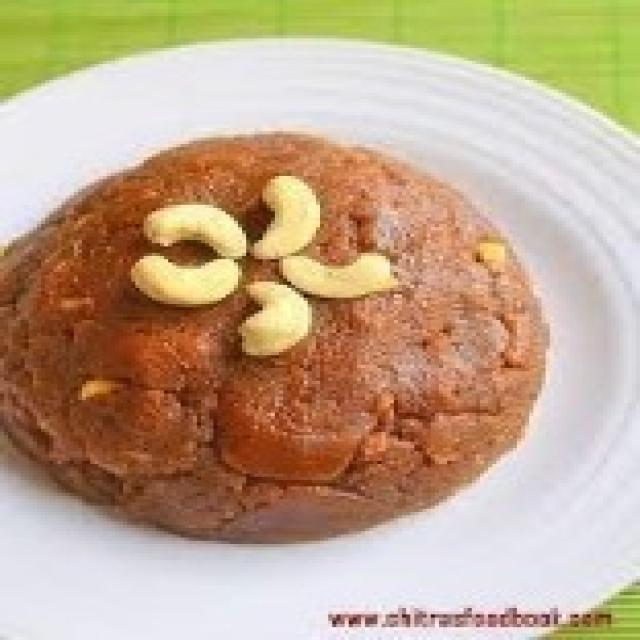UPMA: (0, 128, 542, 541)
